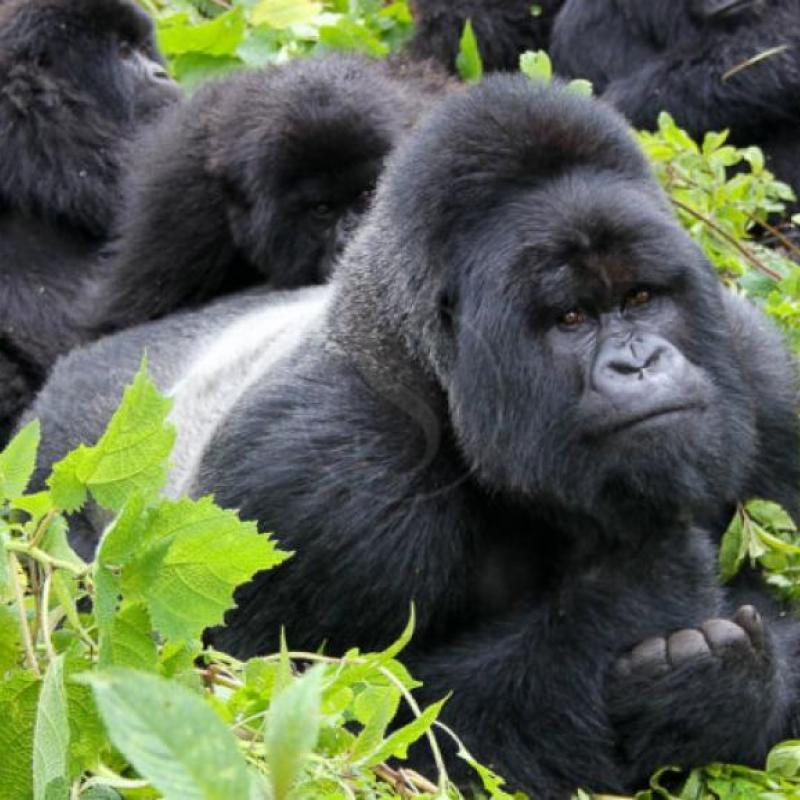goriile_montagne: (0, 88, 791, 779), (0, 0, 298, 341)
